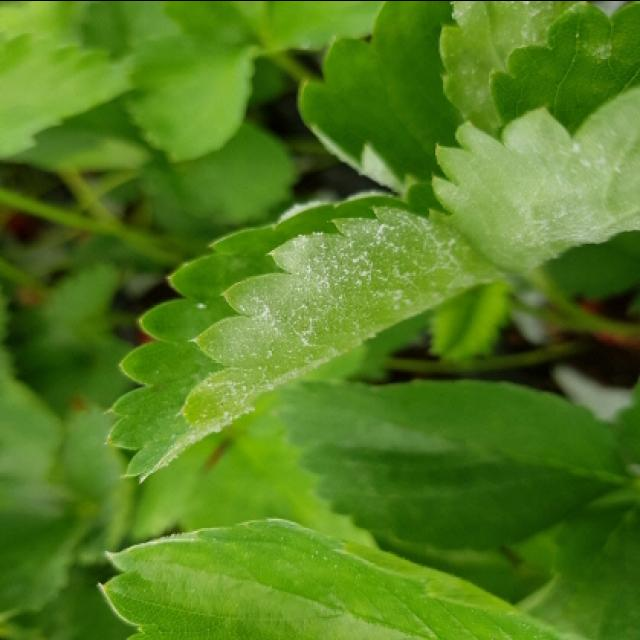Powdery Mildew Leaf: (103, 180, 514, 487), (430, 2, 638, 274), (296, 2, 583, 196)
